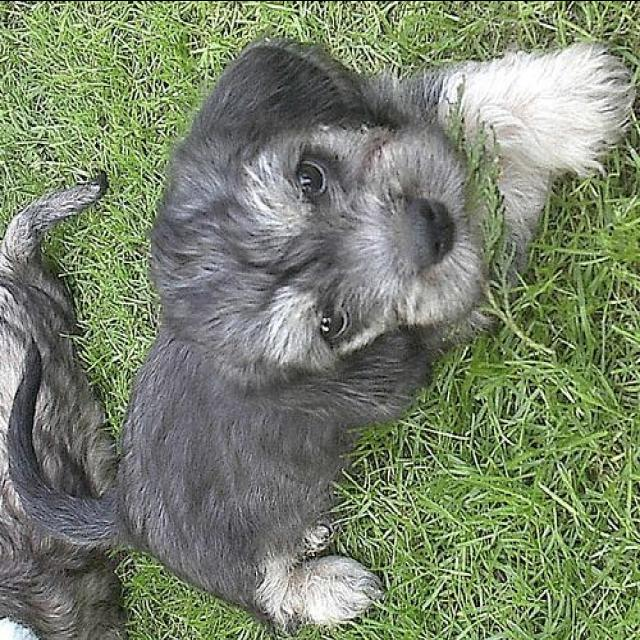dandie_dinmont: (7, 38, 638, 632), (0, 173, 132, 637)
